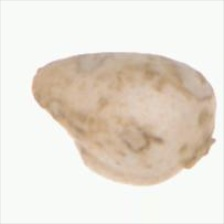L1: (185, 135, 215, 166)
L2: (31, 53, 217, 186)
